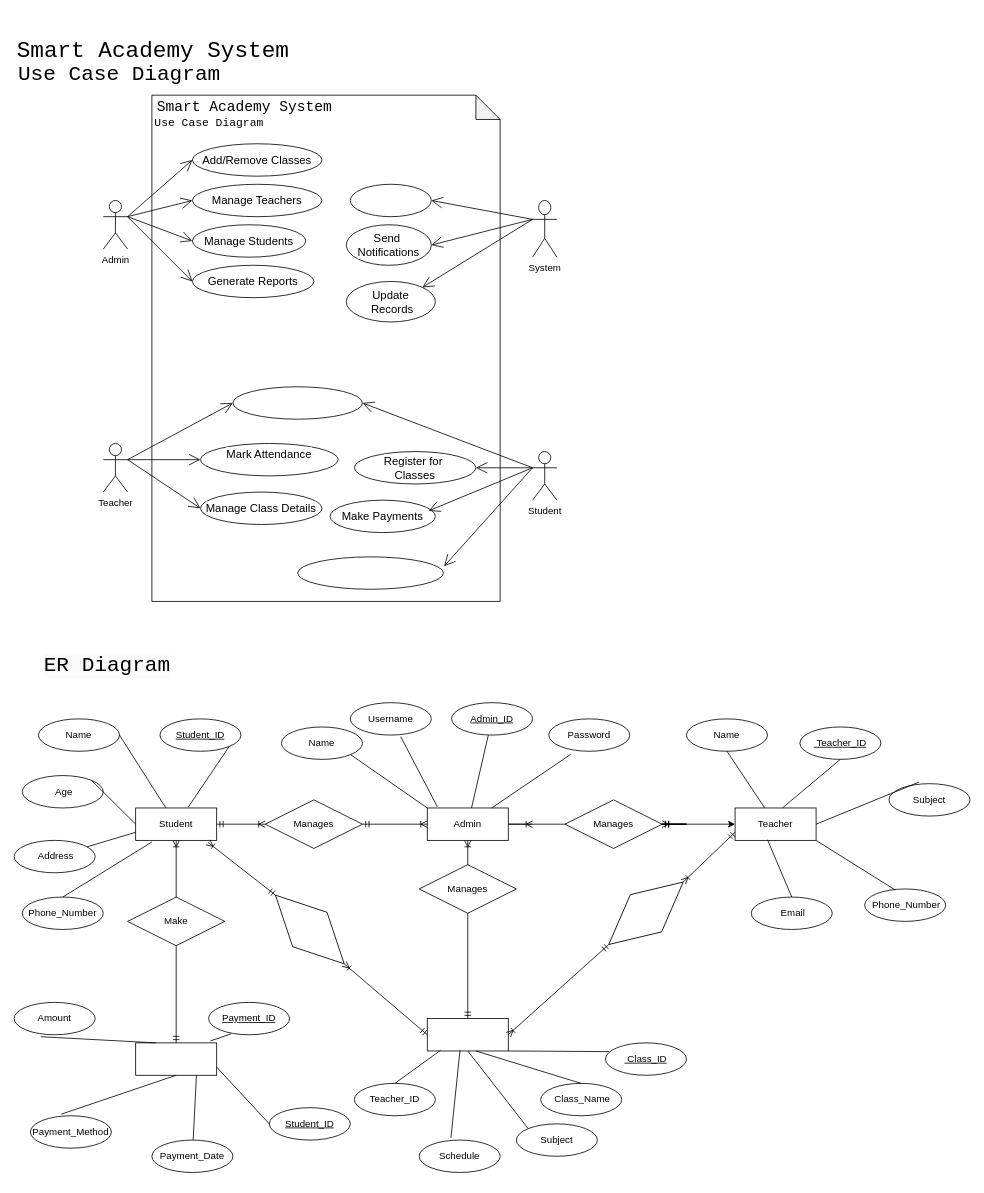
Some shapes in this 984 by 1193 pixel diagram are drawn without their labels. The box of each missing label's shape, as (x1, y1, x2, y2) in pixels:
Class: (426, 1018, 508, 1051)
Enrolls: (257, 877, 362, 981)
Payments: (135, 1042, 217, 1075)
Process Payments: (350, 183, 431, 217)
Taugh bY: (592, 862, 699, 963)
View Class Schedule: (232, 386, 362, 419)
View Payment History: (297, 556, 443, 589)
